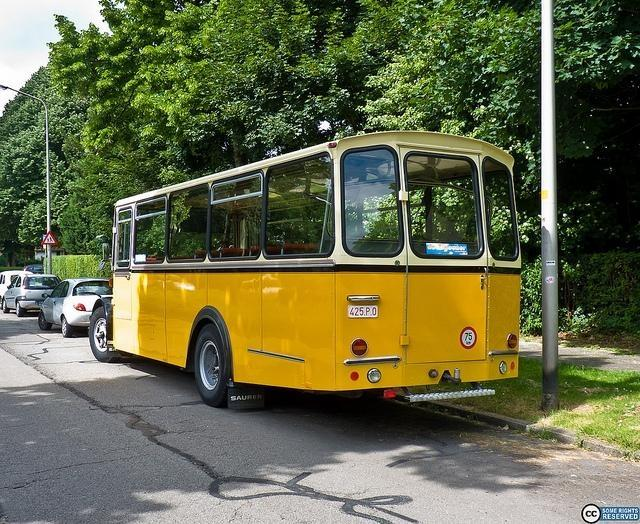bus: (85, 129, 522, 410)
car: (36, 274, 115, 339), (2, 274, 60, 316), (0, 270, 34, 310)
